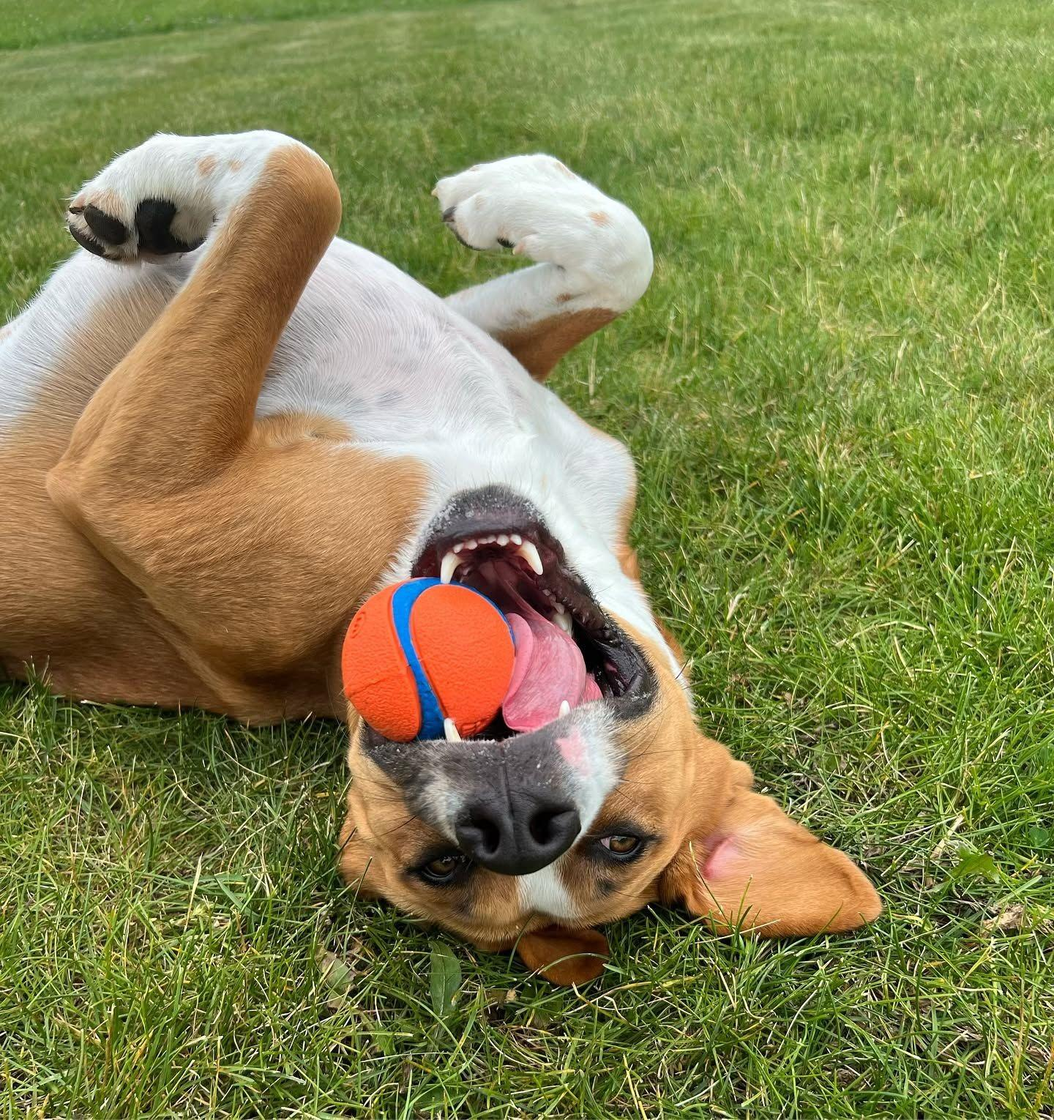adult_dog: (0, 124, 883, 990)
